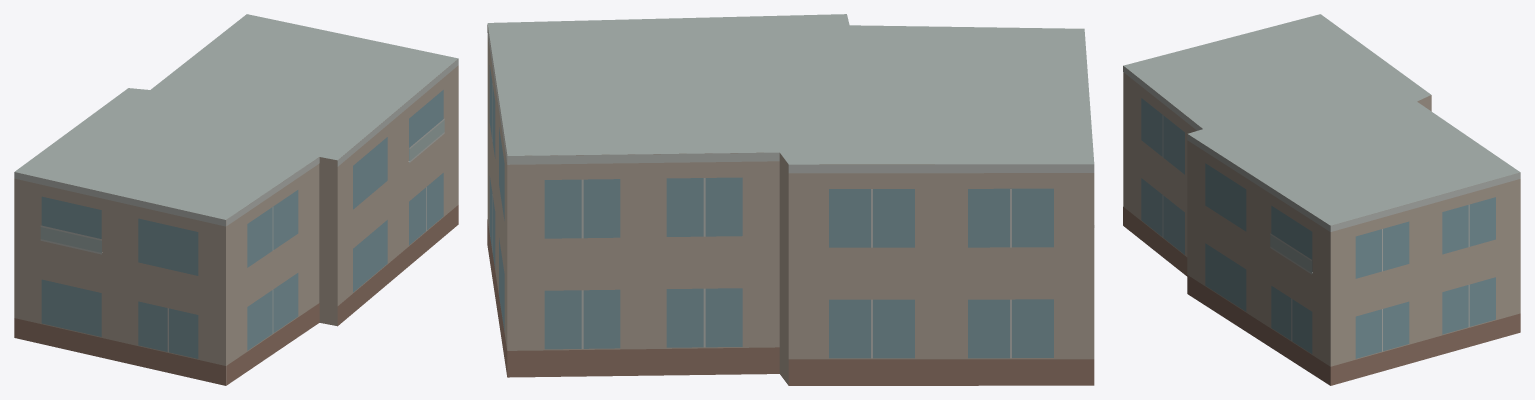
Rendered from survey-upis-32863001.glb.
3 views of the same model, side by side, from view 1: azimuth 30°, elevation 25°; view 2: azimuth 150°, elevation 25°; view 3: azimuth 270°, elevation 25° (orthographic). The views are drawn at different scales.
Visible parts, largest first — view 1: survey-upis-32863001.tmp; view 2: survey-upis-32863001.tmp; view 3: survey-upis-32863001.tmp.
Part boxes in pixels (box(x1,y1,x2,y2)): survey-upis-32863001.tmp: box(14, 14, 458, 385); survey-upis-32863001.tmp: box(487, 14, 1094, 385); survey-upis-32863001.tmp: box(1123, 14, 1520, 385).
Bounding box in the file's own units: 17.31 × 6.1 × 13.73.
